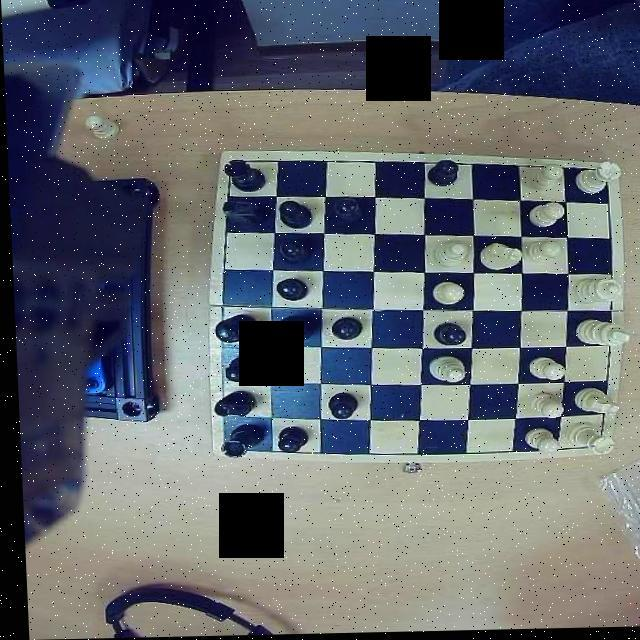chess-table-corners: (220, 154, 248, 186), (212, 428, 239, 458), (584, 164, 612, 192), (578, 434, 606, 456)
